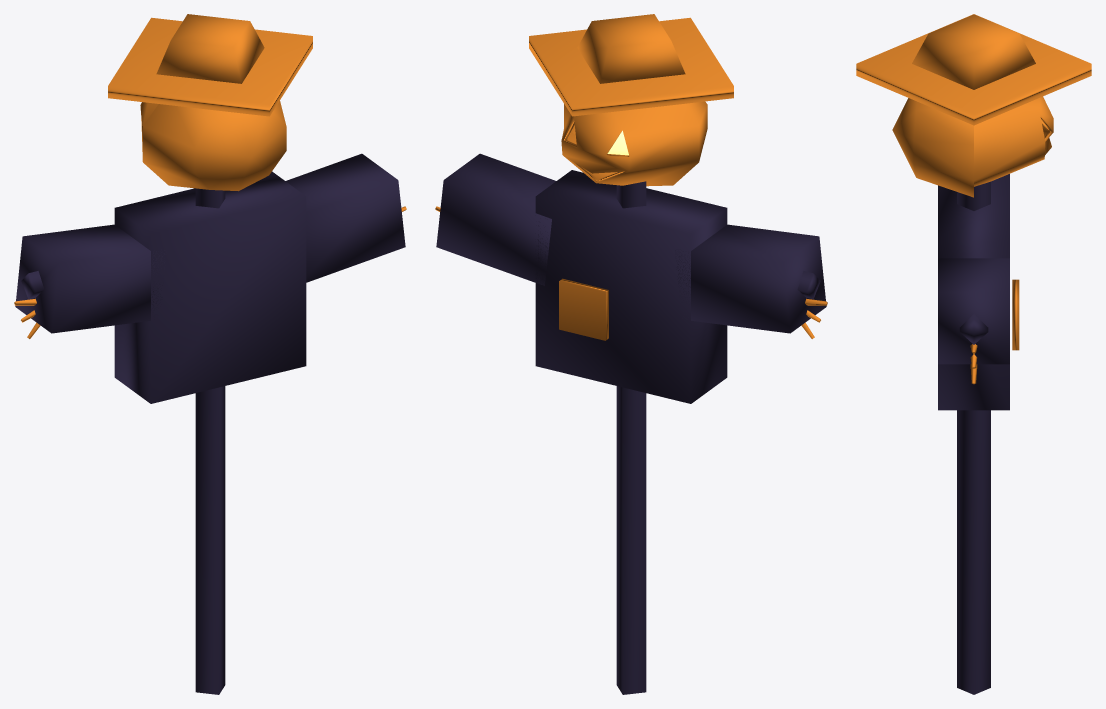
The model's file is scarecrow_low.glb.
3 views of the same model, side by side, from view 1: azimuth 30°, elevation 25°; view 2: azimuth 150°, elevation 25°; view 3: azimuth 270°, elevation 25° (orthographic).
Size of the model in its own units: 1.18 by 1.9 by 0.62.
